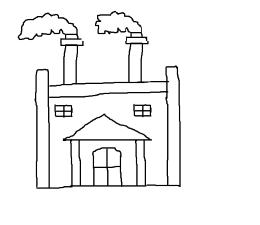closed_window: (124, 101, 159, 120), (49, 102, 74, 124)
door: (90, 143, 126, 191)
roof: (23, 72, 183, 95)
smoking_chimney: (13, 6, 87, 86), (89, 2, 158, 82)
wall: (45, 87, 171, 194)
